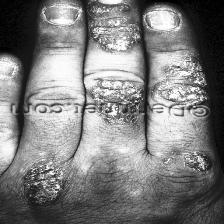Non-Cancerous Skin Condition: (88, 1, 142, 52), (155, 61, 209, 103), (22, 161, 64, 207), (159, 150, 212, 173)
